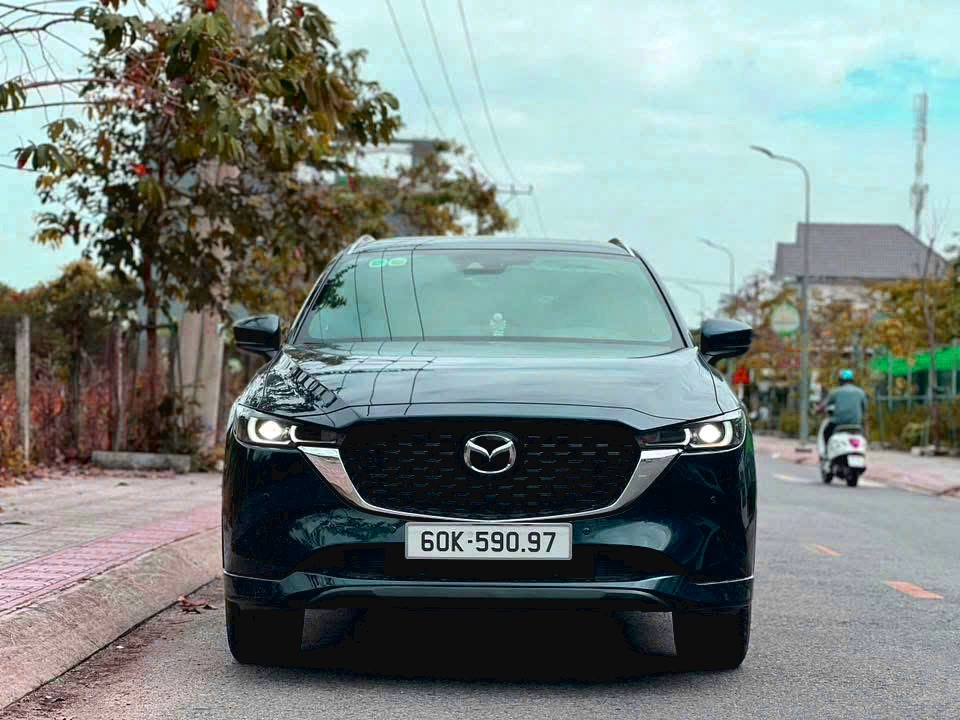Bien-so: (380, 501, 560, 551)
